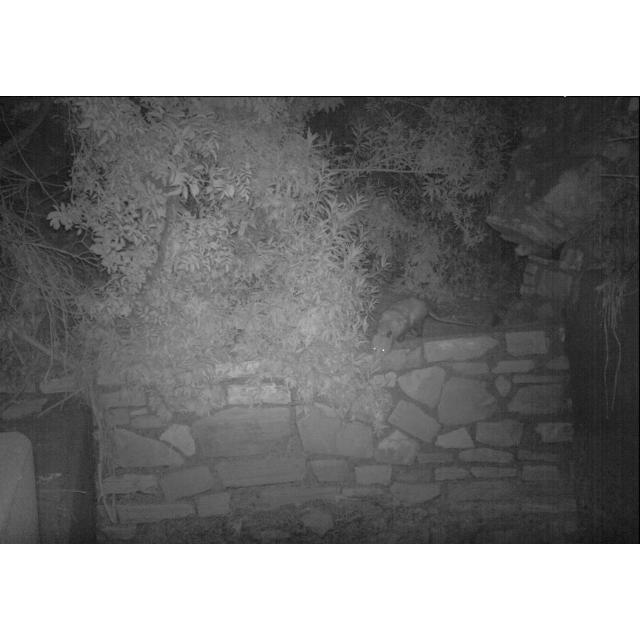animals: (373, 292, 479, 344)
